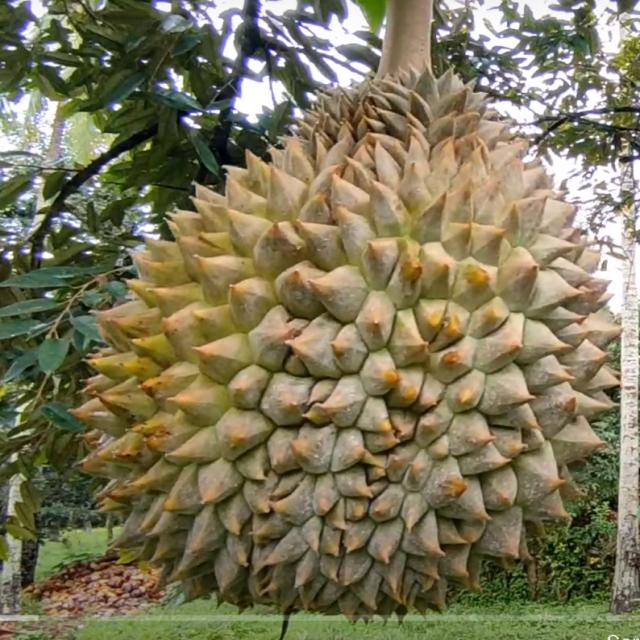immature: (73, 71, 629, 624)
